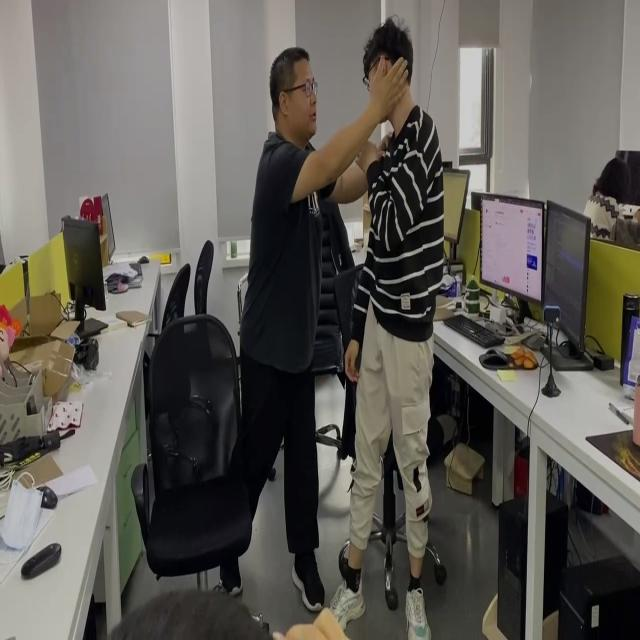fight: (233, 13, 437, 636)
